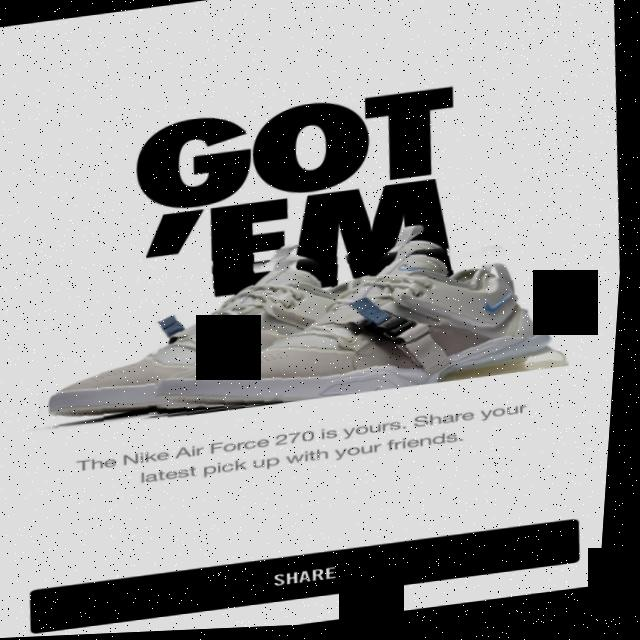shoe: (140, 221, 582, 422), (18, 246, 341, 437)
